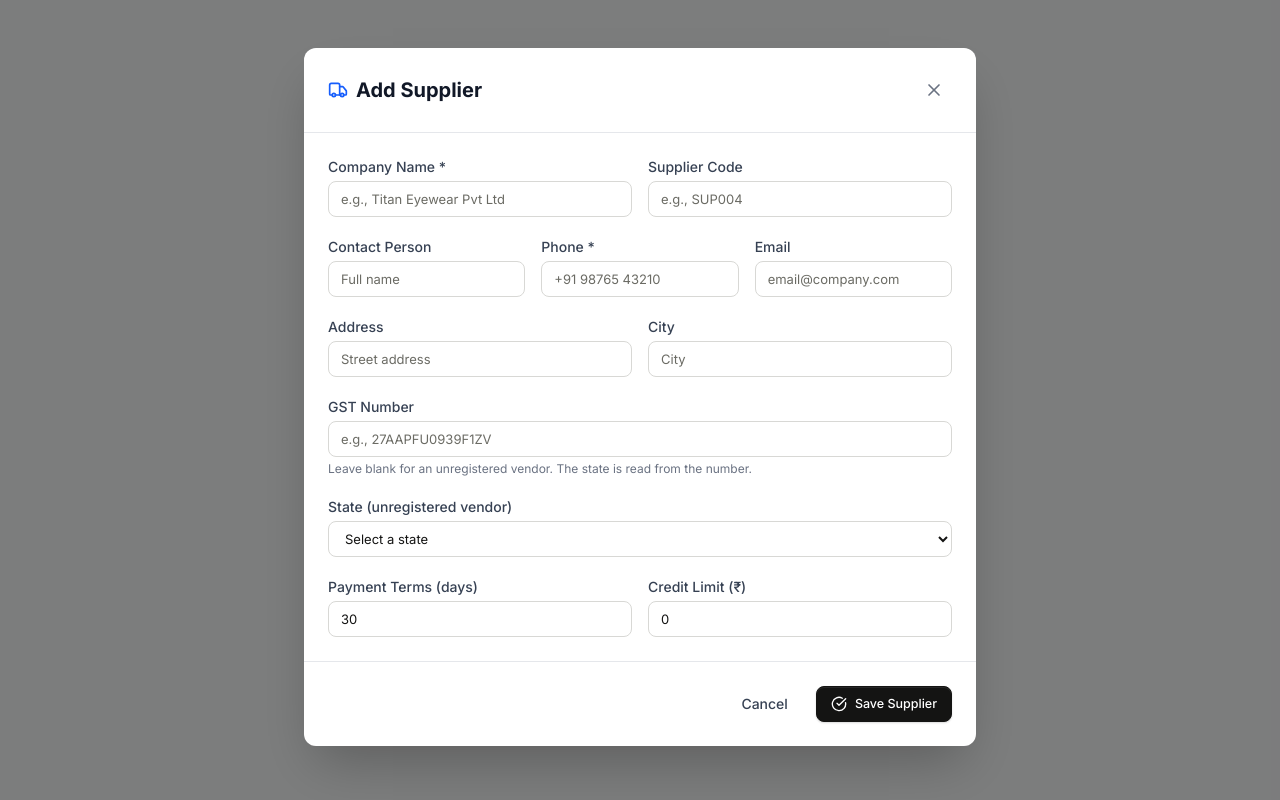
Test: SupplierFormModal state-from-GSTIN › refuses a malformed GSTIN before it reaches the server, naming the problem
Type "Acme" into the field labelled "Company Name *".
click(480, 199); type("Acme")  # box [328,181,632,217]
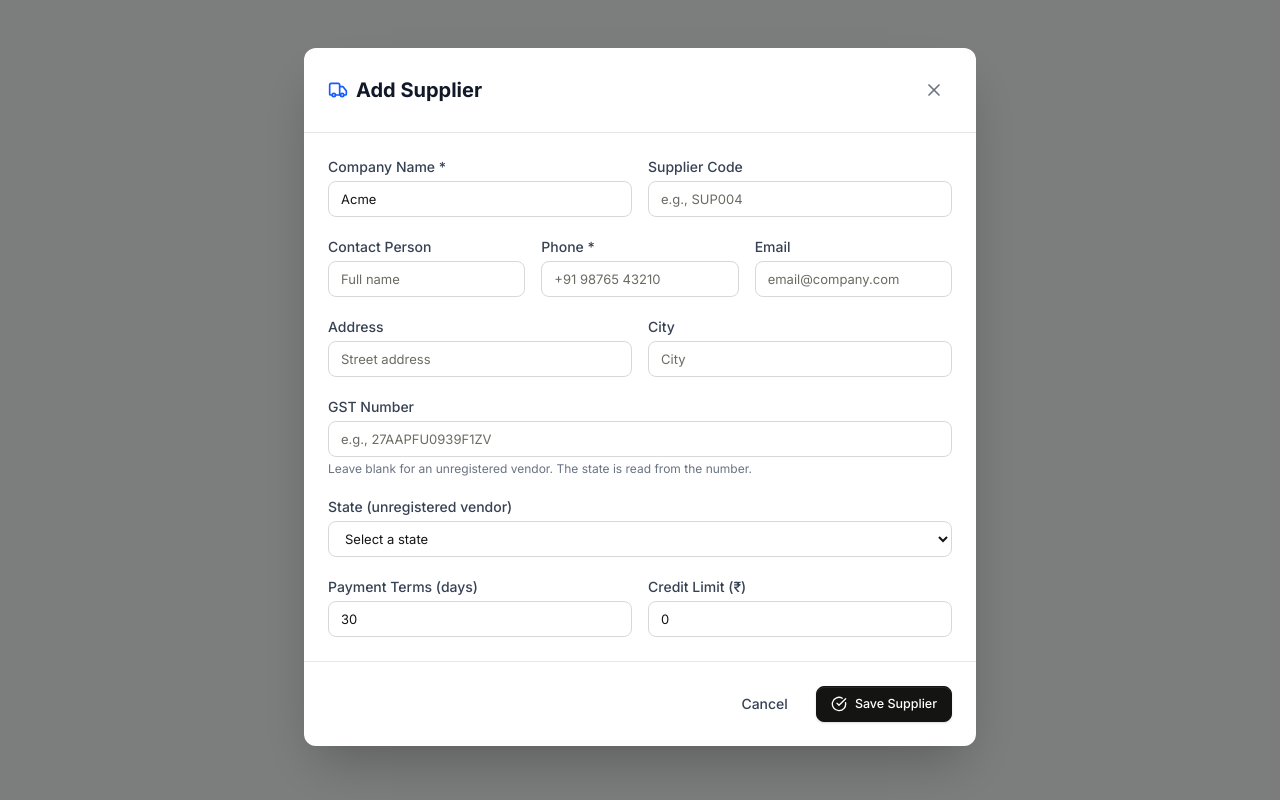
Type "9000000000" into the field labelled "Phone *".
click(640, 279); type("9000000000")  # box [541,261,739,297]
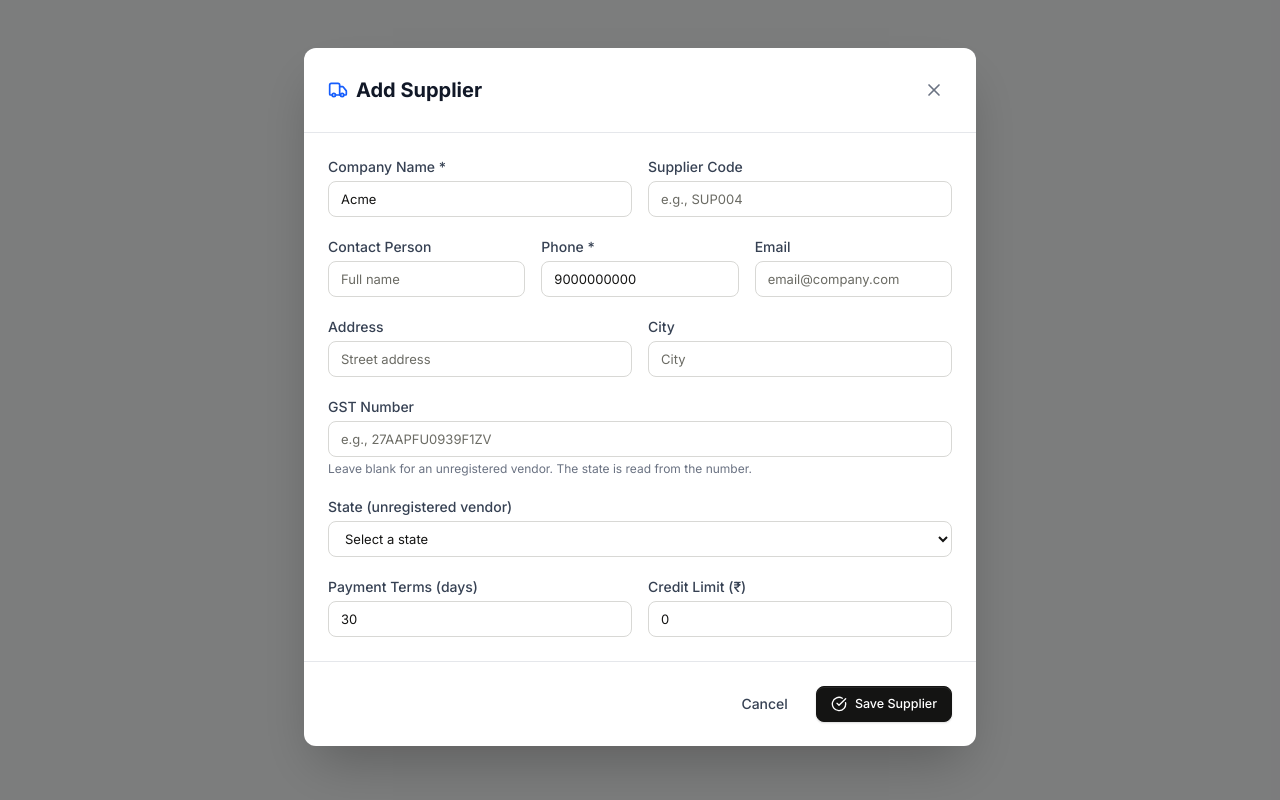
Type "27AAPFU0939F1Z" into the field labelled "GST Number".
click(640, 439); type("27AAPFU0939F1Z")  # box [328,421,952,457]
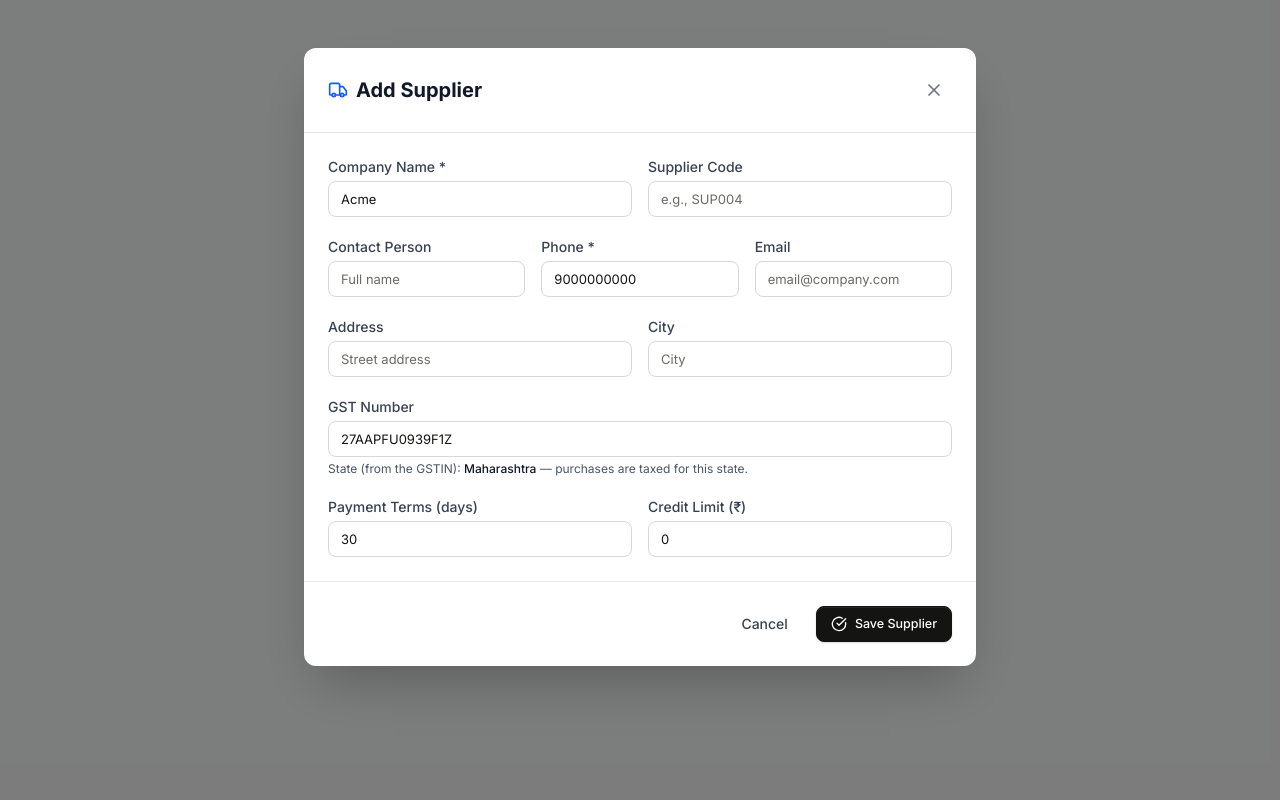
Click the button "Save Supplier".
click(884, 624)  # box [816,606,952,642]
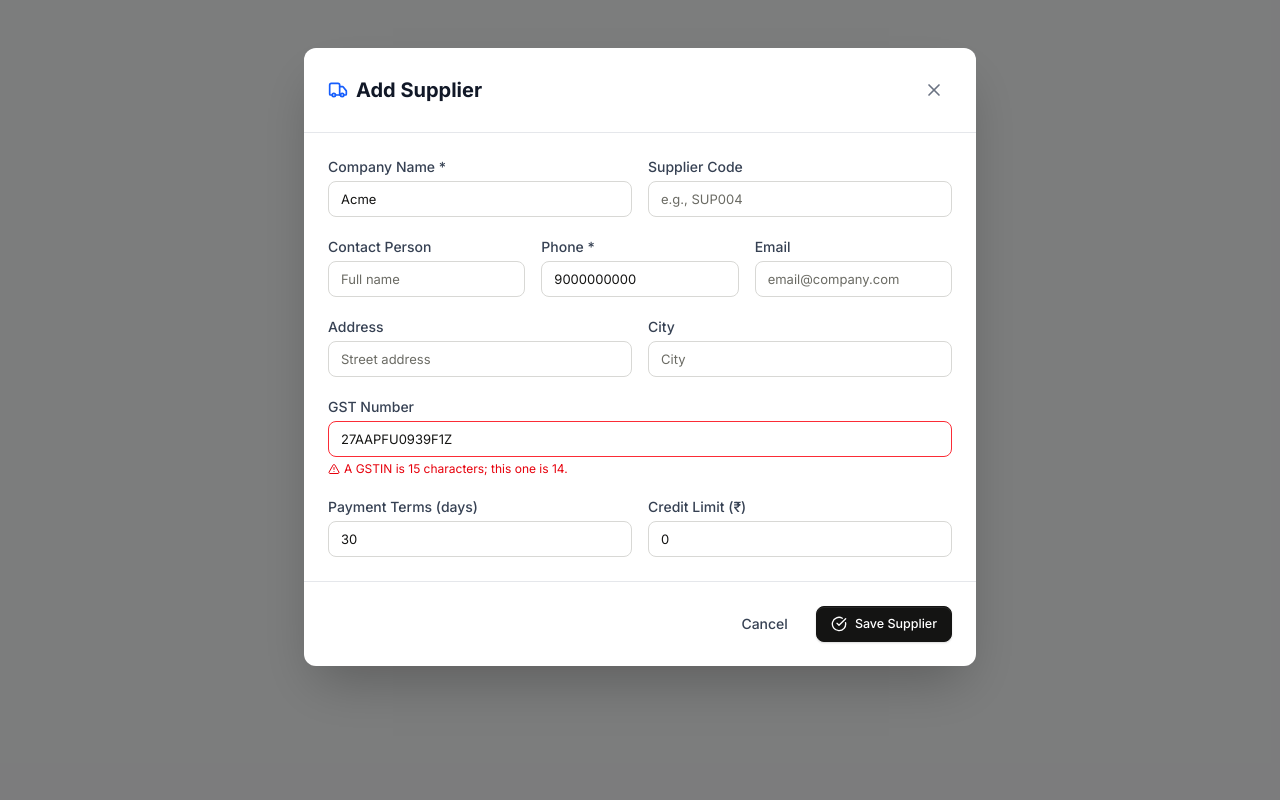
Result: the text "A GSTIN is 15 characters; this one is 14." is shown at [328,461,568,476]
